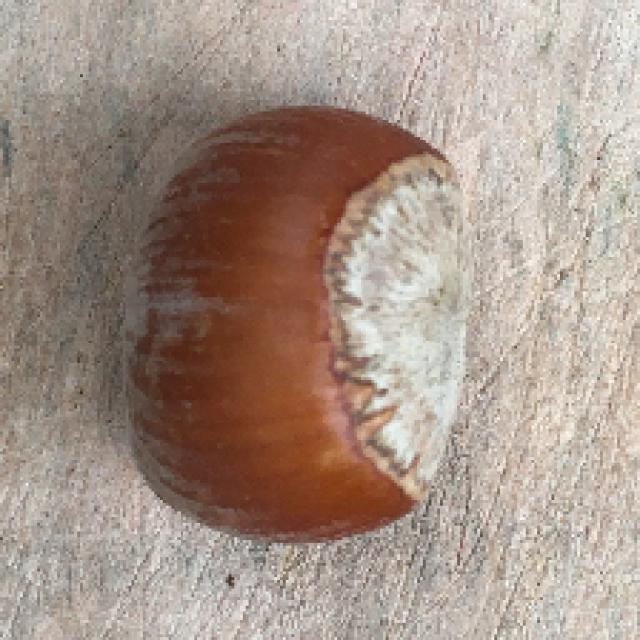QualityHazelnut: (119, 101, 475, 546)
